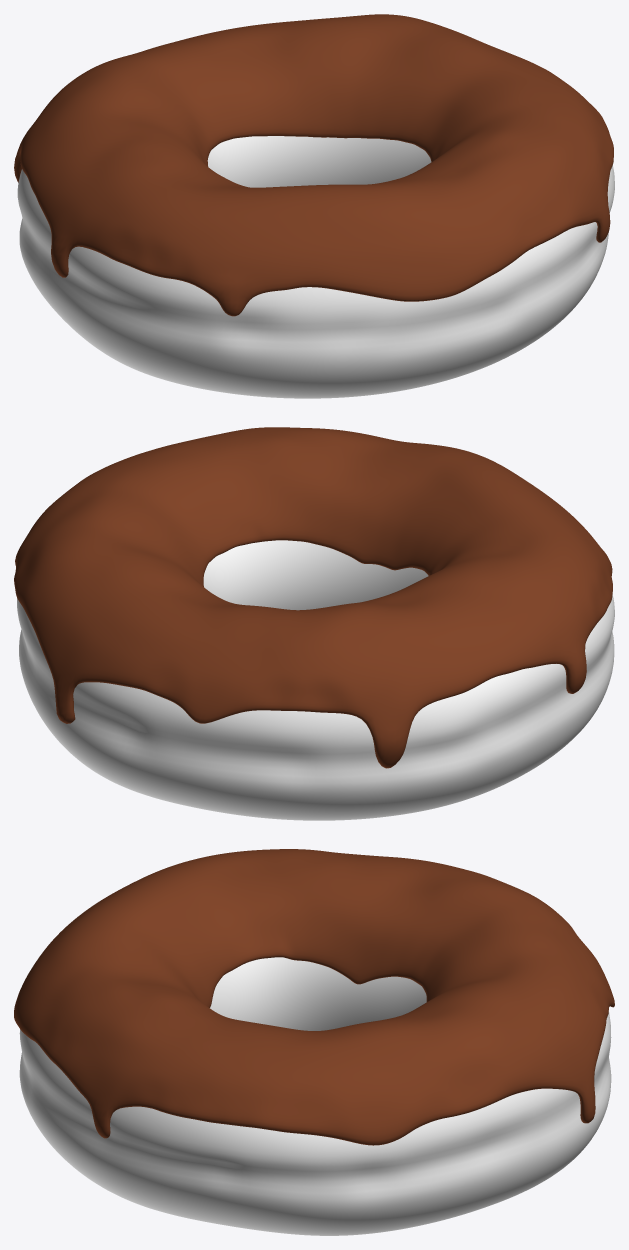
Rendered from donut.gltf.
3 renders of one model, top to bottom at view 1: azimuth 30°, elevation 25°; view 2: azimuth 150°, elevation 25°; view 3: azimuth 270°, elevation 25°, orthographic.
Parts seen in each view (by area): view 1: Es, Donat; view 2: Es, Donat; view 3: Es, Donat.
Boxes of the visible parts, bbox=[...] form: Es: bbox=[14, 14, 613, 316]; Donat: bbox=[17, 136, 614, 398]; Es: bbox=[14, 427, 612, 768]; Donat: bbox=[17, 540, 614, 820]; Es: bbox=[14, 849, 614, 1145]; Donat: bbox=[19, 957, 611, 1235].
Bounding box in the file's own units: 0.1496 × 0.0549 × 0.1458.
